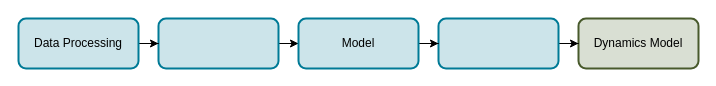
Image size: 716x86. Some labels were removed from this diagram. Each missing label, with the box of its shape:
Data Selection (optional): (157, 17, 279, 69)
Optimization Framework: (437, 17, 559, 69)
